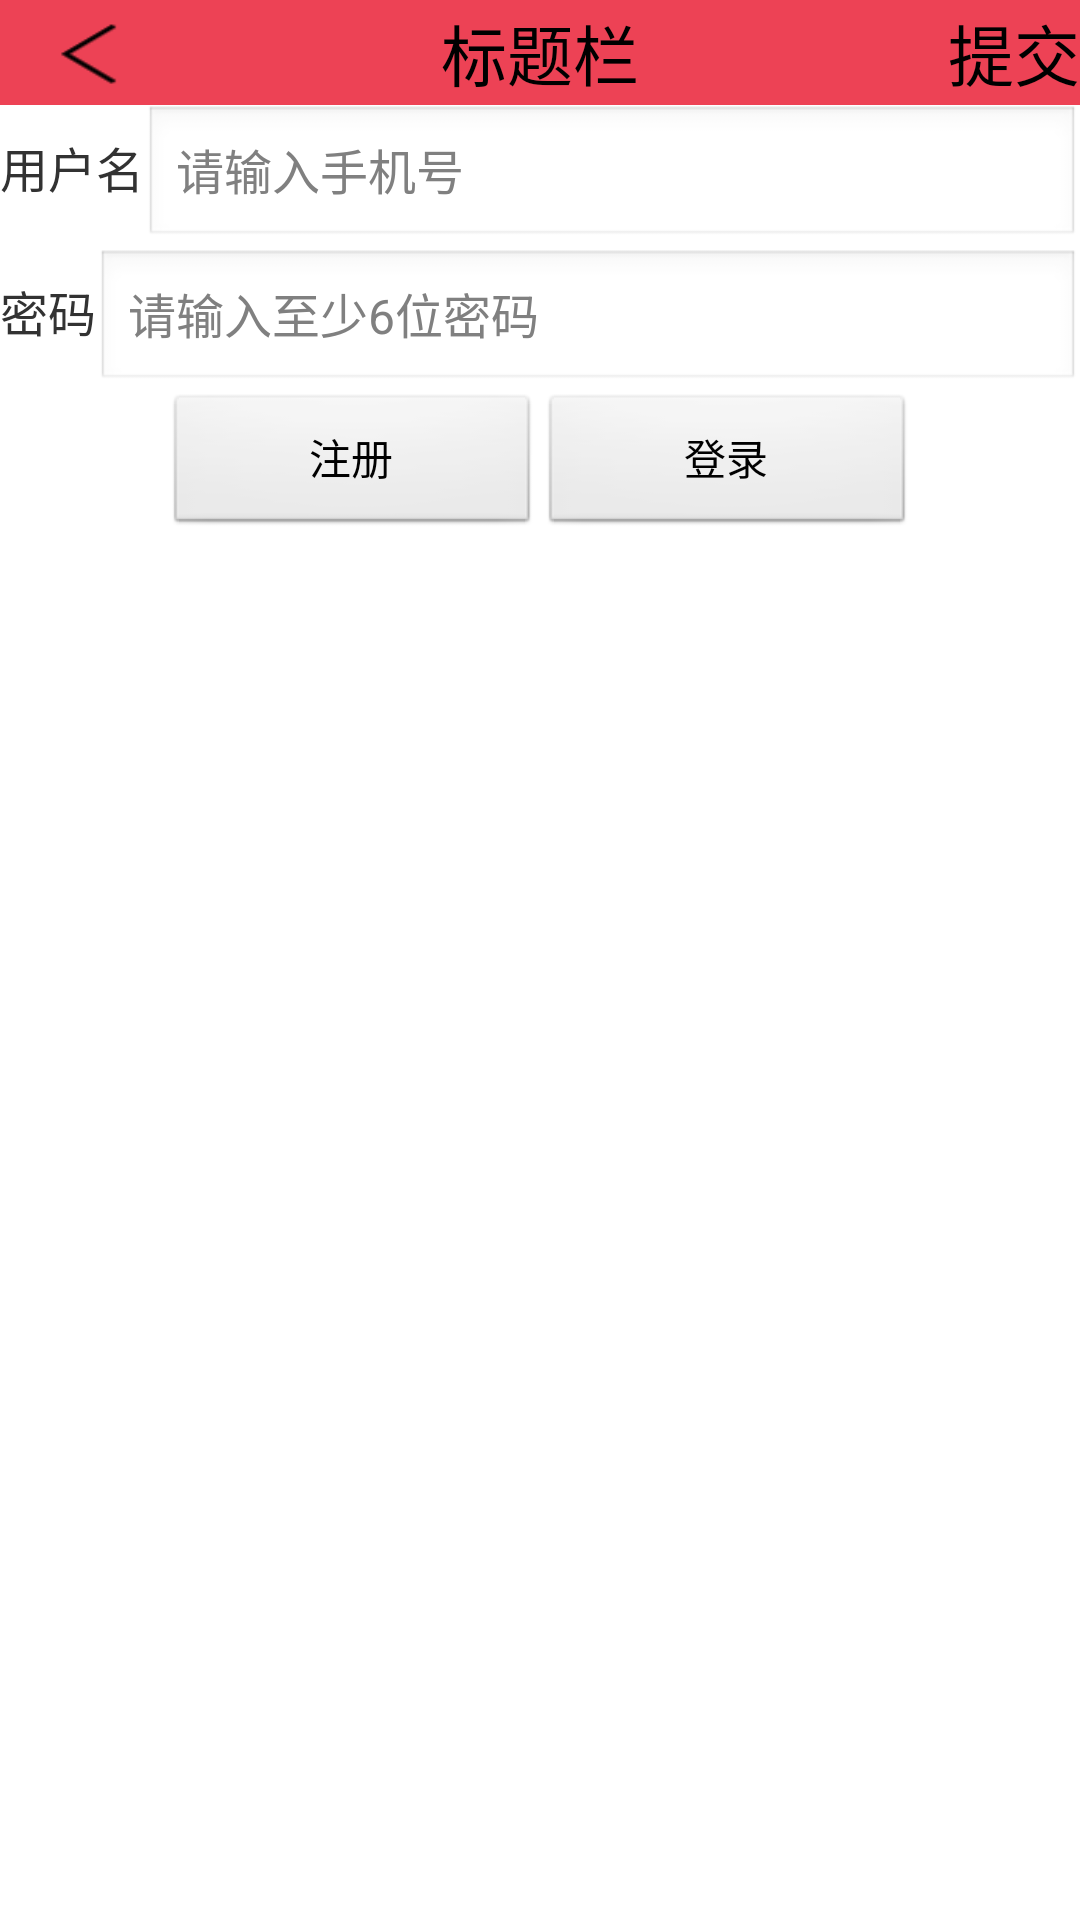

Where to tap for icons on this 1080px x 1920px app screen, as (x=x, y=y):
back arrow: (x=88, y=54)
